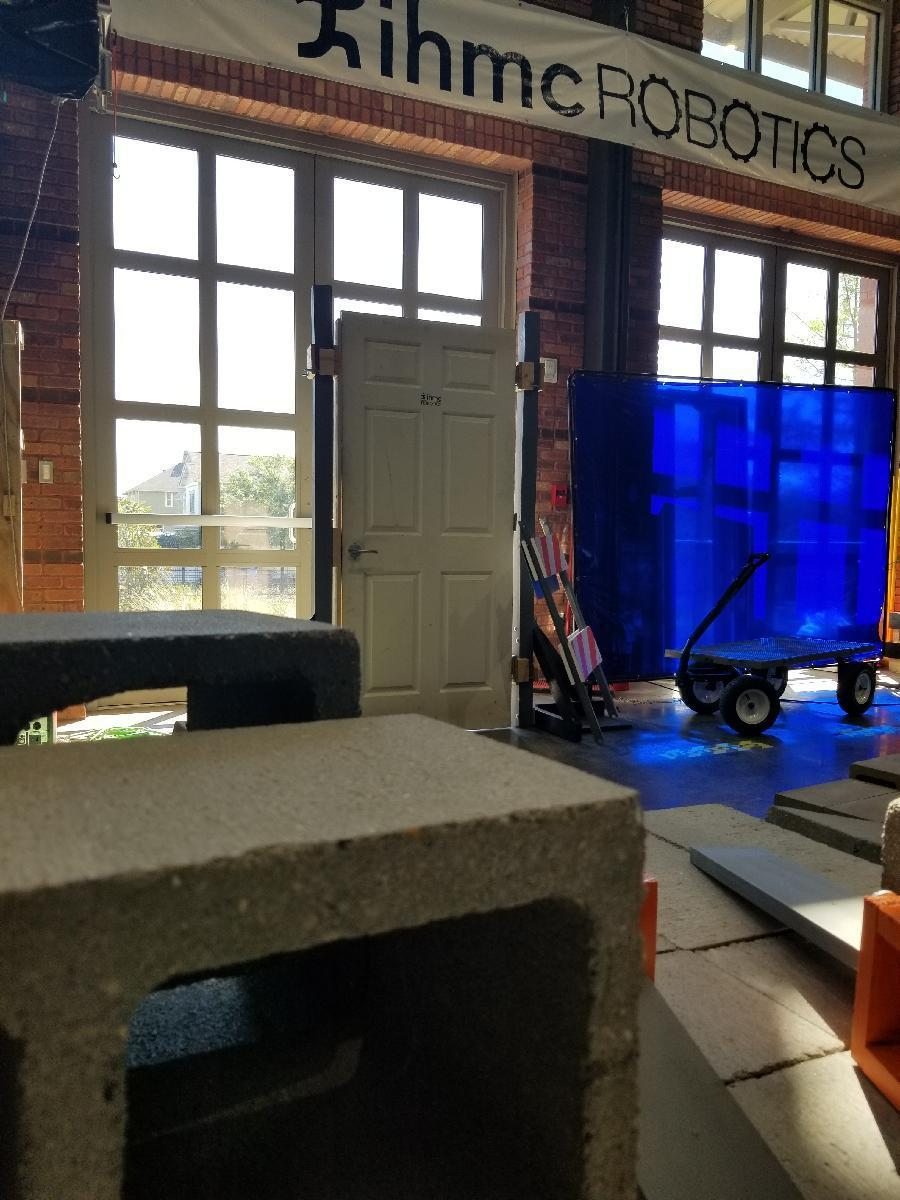door: (338, 308, 522, 745)
handle: (348, 540, 382, 565)
